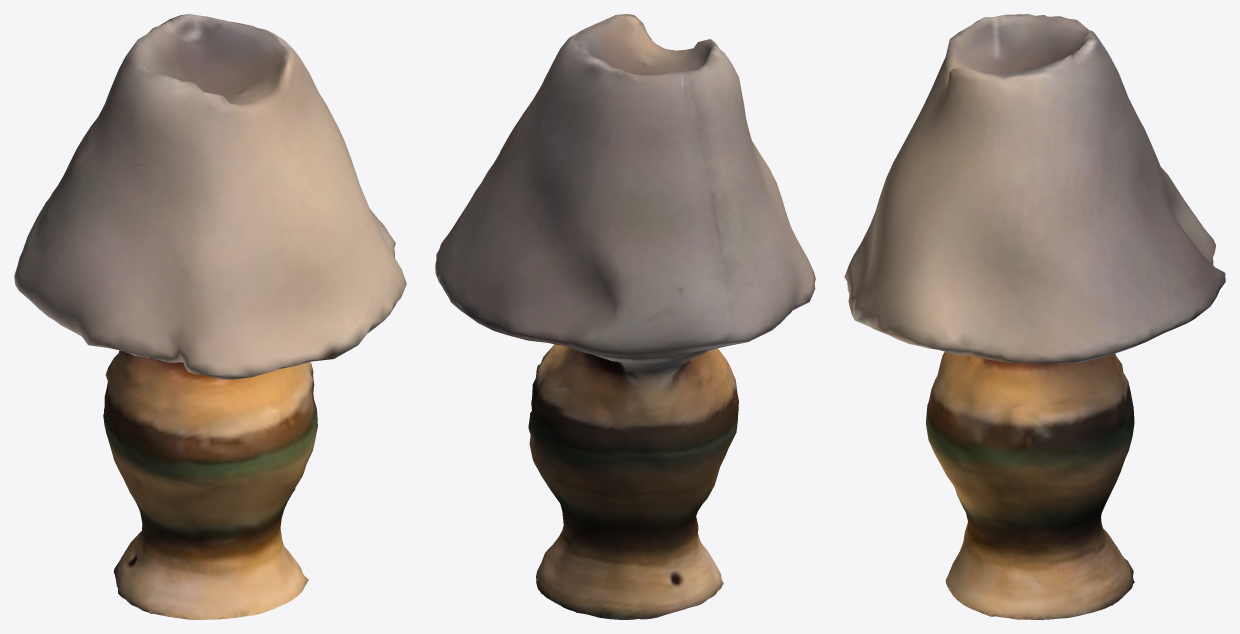
File: modelo.glb
3 views of the same model, side by side, from view 1: azimuth 30°, elevation 25°; view 2: azimuth 150°, elevation 25°; view 3: azimuth 270°, elevation 25° (orthographic).
Visible parts, largest first — view 1: 3DModel; view 2: 3DModel; view 3: 3DModel.
Part boxes in pixels (<box>): 3DModel: <box>14,14,406,619</box>; 3DModel: <box>435,14,815,619</box>; 3DModel: <box>844,14,1225,619</box>.
Bounding box in the file's own units: 0.428 × 0.6589 × 0.4207.
1 material, 1 textured.
